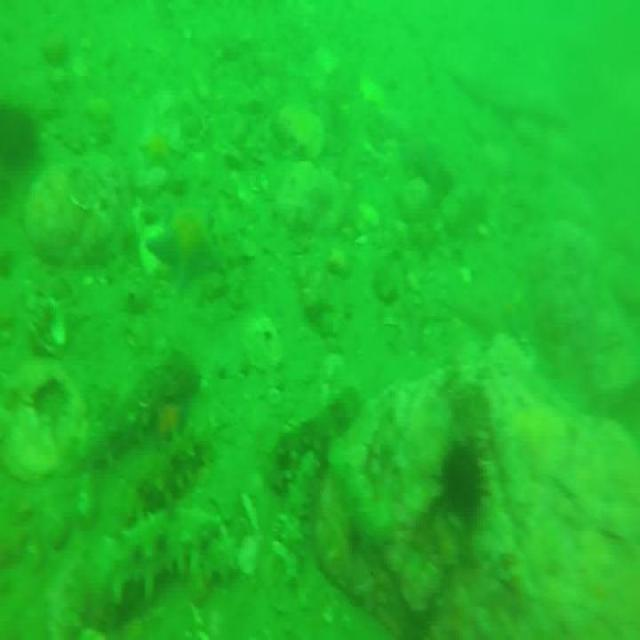echinus: (3, 90, 41, 177), (441, 446, 488, 516)
holothurian: (82, 351, 196, 461), (111, 510, 227, 598), (276, 390, 382, 474), (120, 422, 211, 515)
scallop: (273, 86, 327, 164), (129, 198, 163, 270), (28, 297, 68, 357), (239, 316, 280, 373)
